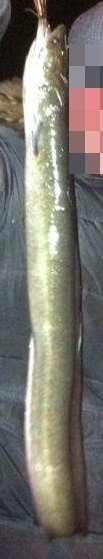Anguilla anguilla: (20, 20, 83, 539)
